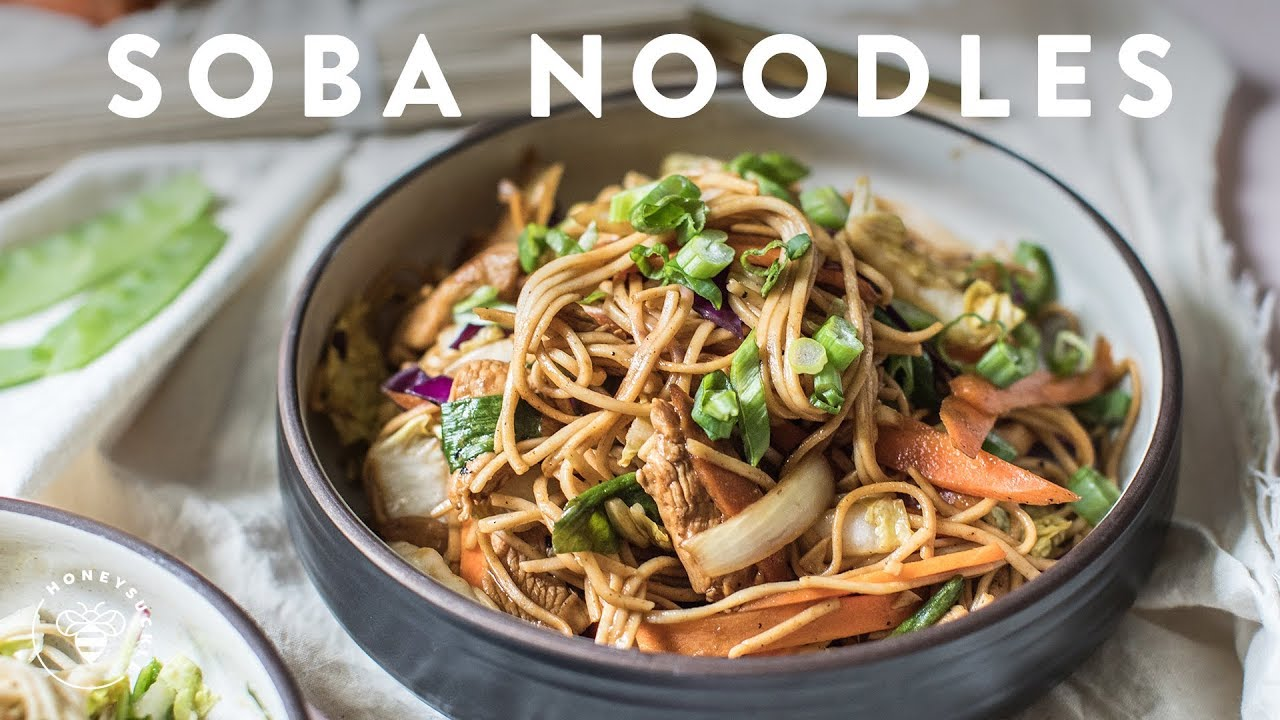Soba: (423, 175, 1084, 628)
